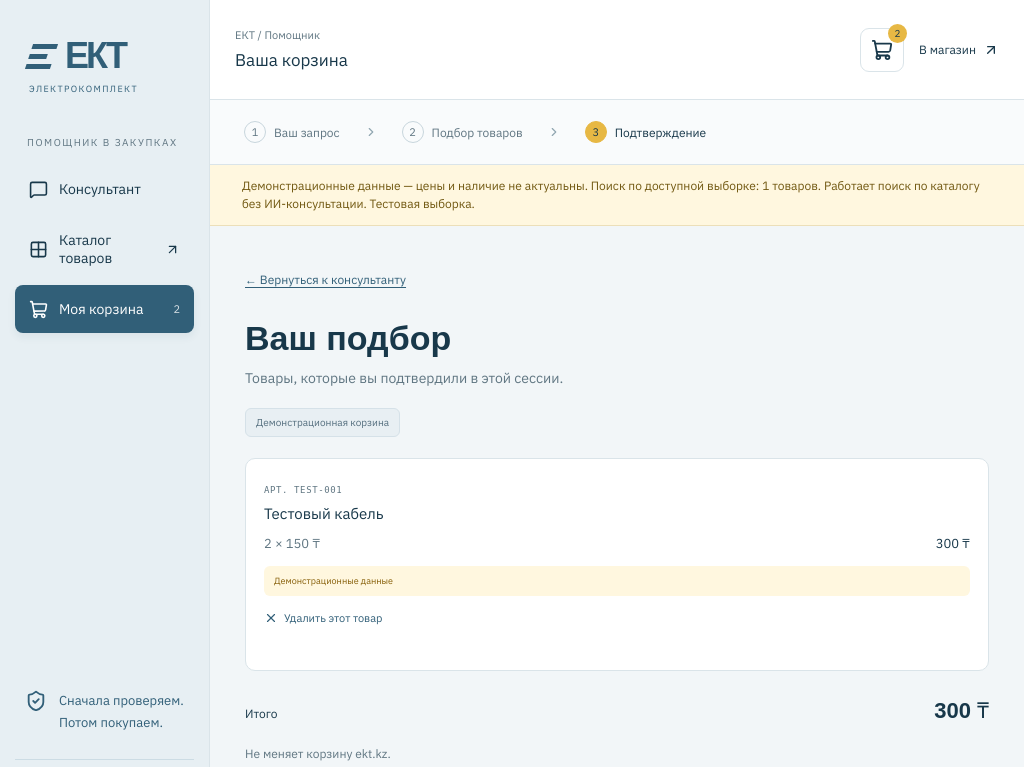
Scenario: removes a cart line only on explicit click and shows the server total at /cart
This screenshot has width=1024, height=767.
Click the button "Удалить этот товар": (323, 618) 264,596 -> 382,640
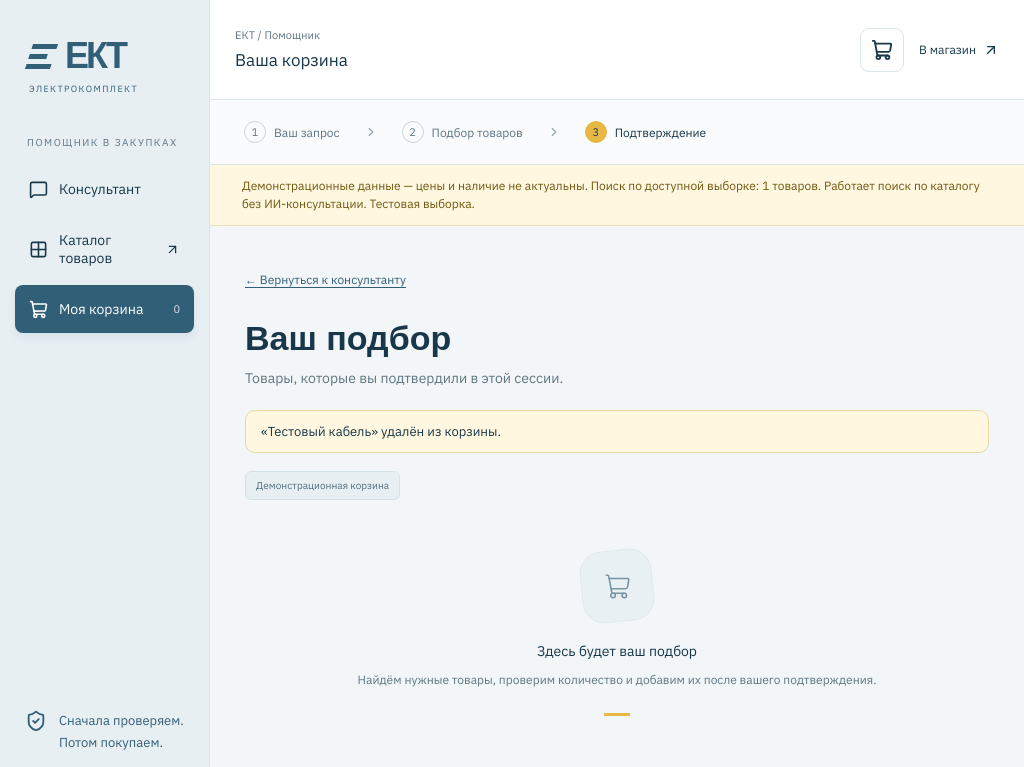
Result: the link "Моя корзина 0" is shown at 15,285 -> 194,333
